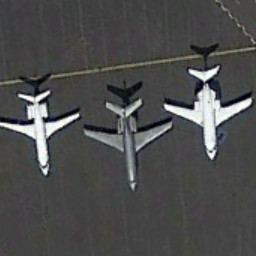Airplane: (160, 61, 254, 174), (79, 98, 177, 201), (1, 85, 83, 187)
